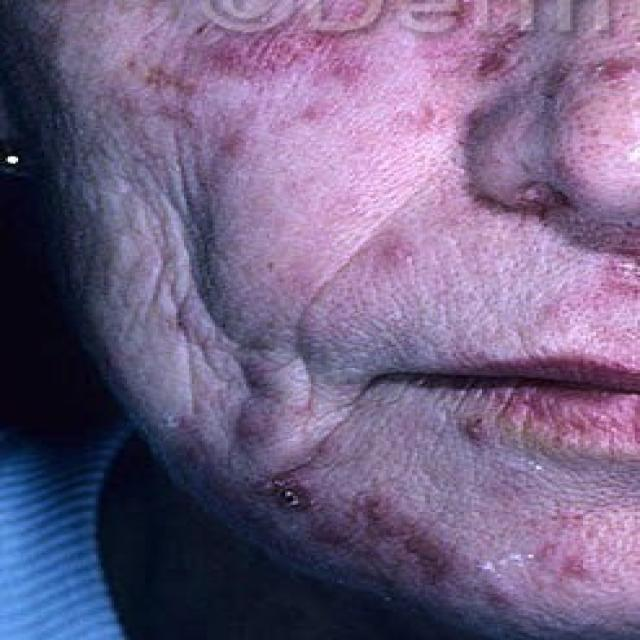Rosacea: (194, 22, 536, 103)
